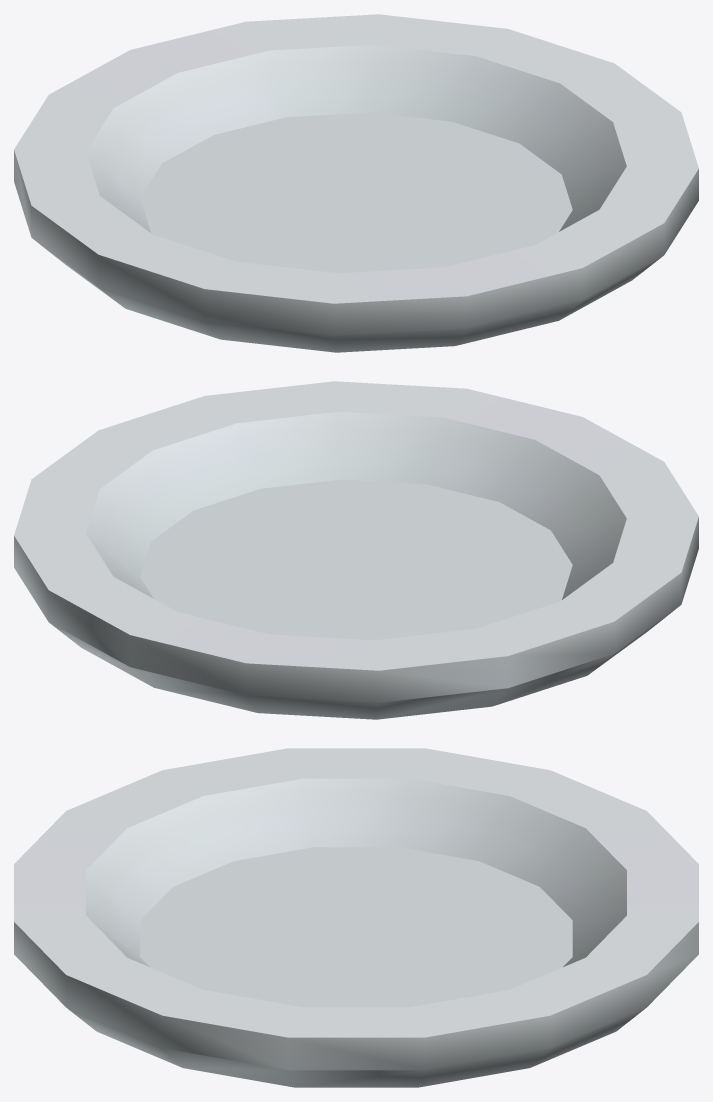
Rendered from kkr.plate.glb.
3 views of the same model, one above another, from view 1: azimuth 30°, elevation 25°; view 2: azimuth 150°, elevation 25°; view 3: azimuth 270°, elevation 25° (orthographic).
Visible parts, largest first — view 1: plate; view 2: plate; view 3: plate.
Boxes of the visible parts, x1=… form: plate: x1=14, y1=14, x2=698, y2=352; plate: x1=14, y1=381, x2=698, y2=719; plate: x1=14, y1=748, x2=698, y2=1087.
Bounding box in the file's own units: 0.2619 × 0.0276 × 0.2619.
Materials: 1 (1 with a texture image).
